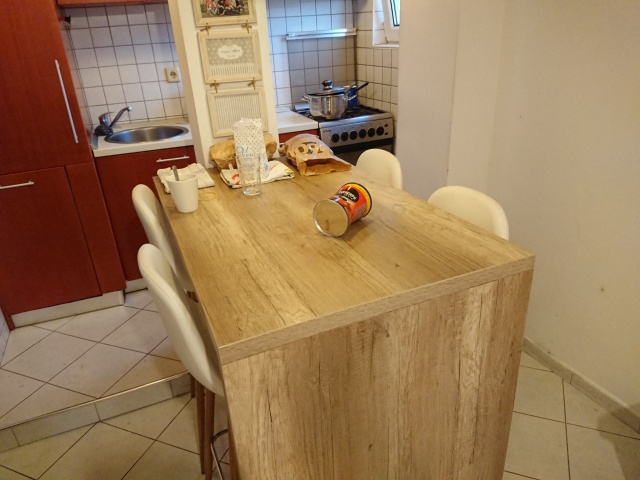Nescafe Classic 225g: (310, 180, 376, 240)
